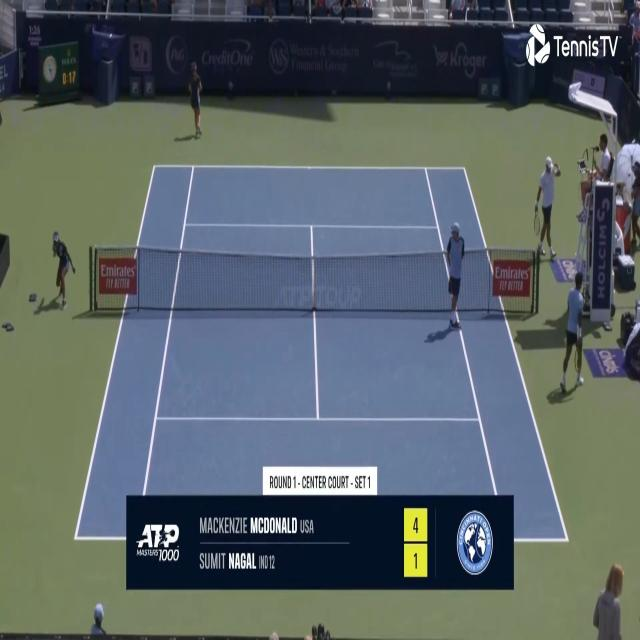tennis-player: (558, 273, 590, 397), (533, 154, 562, 258)
